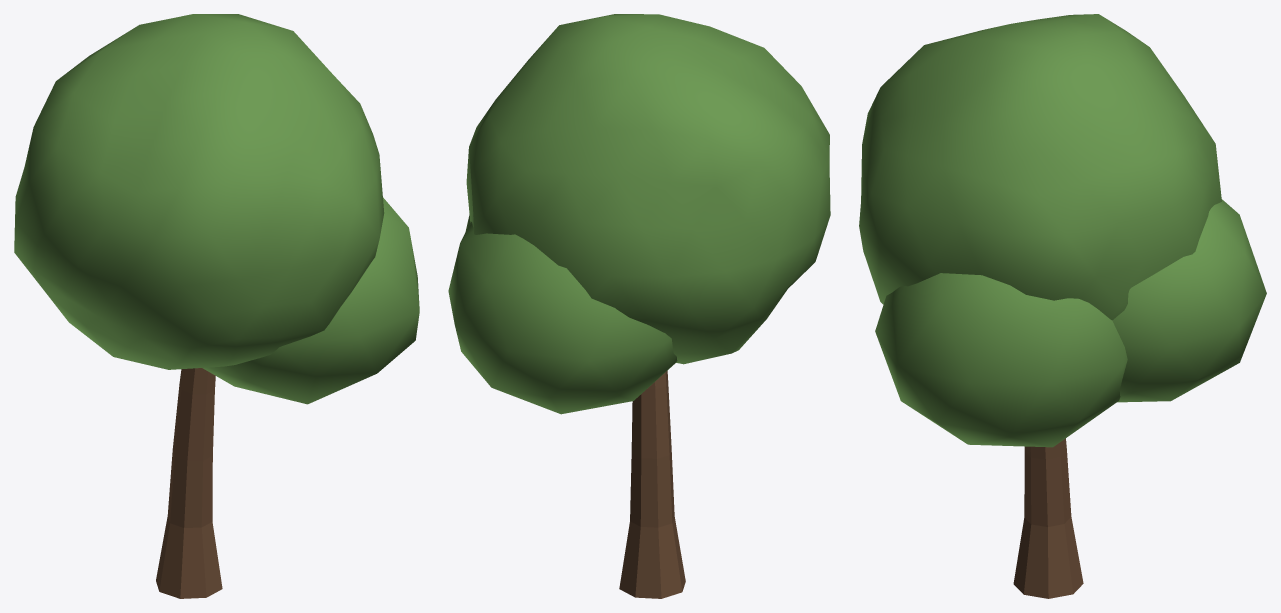
Rendered from tree_round_2.glb.
The picture shows the model from 3 angles, left to right: view 1: azimuth 30°, elevation 25°; view 2: azimuth 150°, elevation 25°; view 3: azimuth 270°, elevation 25°; orthographic projection.
Parts seen in each view (by area): view 1: tree_round_2; view 2: tree_round_2; view 3: tree_round_2.
Part boxes in pixels (box(x1,y1,x2,y2)): tree_round_2: box(14, 14, 419, 598); tree_round_2: box(448, 14, 830, 598); tree_round_2: box(859, 14, 1266, 598).
Size of the model in its own units: 3.77 by 5.73 by 3.77.
